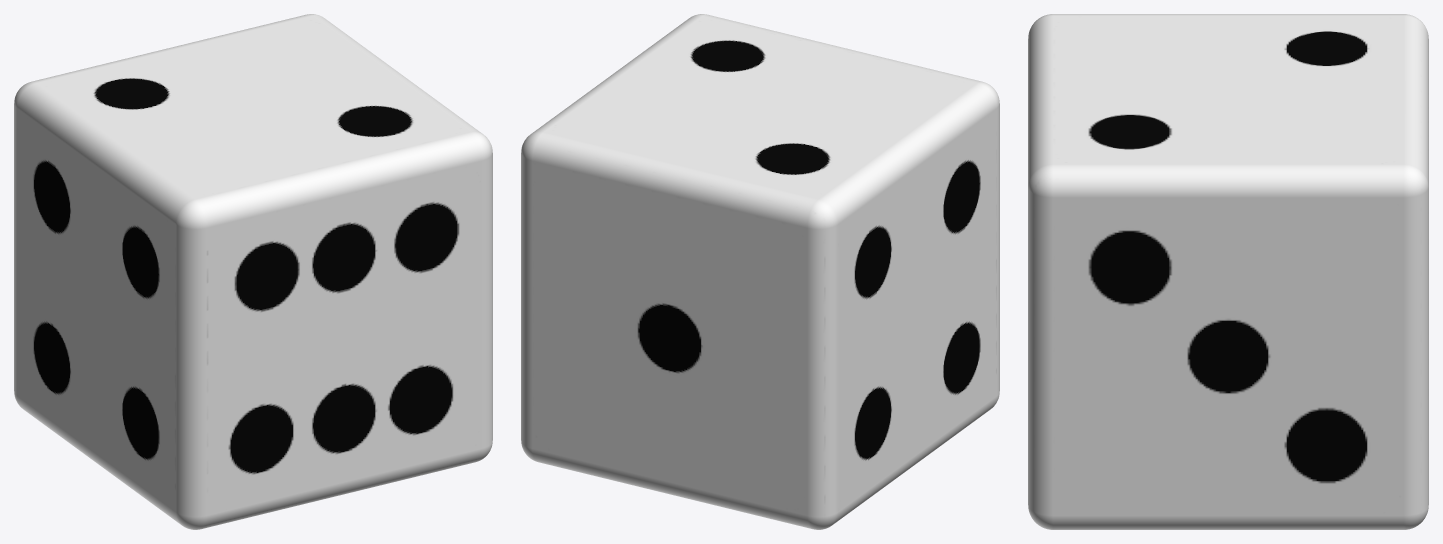
The model's file is die.gltf.
The picture shows the model from 3 angles, left to right: view 1: azimuth 30°, elevation 25°; view 2: azimuth 150°, elevation 25°; view 3: azimuth 270°, elevation 25°; orthographic projection. The views are drawn at different scales.
Parts seen in each view (by area): view 1: Regular DIE; view 2: Regular DIE; view 3: Regular DIE.
Boxes of the visible parts, x1,y1,x2,y2 form: Regular DIE: (14,14,492,529); Regular DIE: (521,14,999,529); Regular DIE: (1028,14,1428,529).
Size of the model in its own units: 1 by 1 by 1.
1 material, 1 textured.
